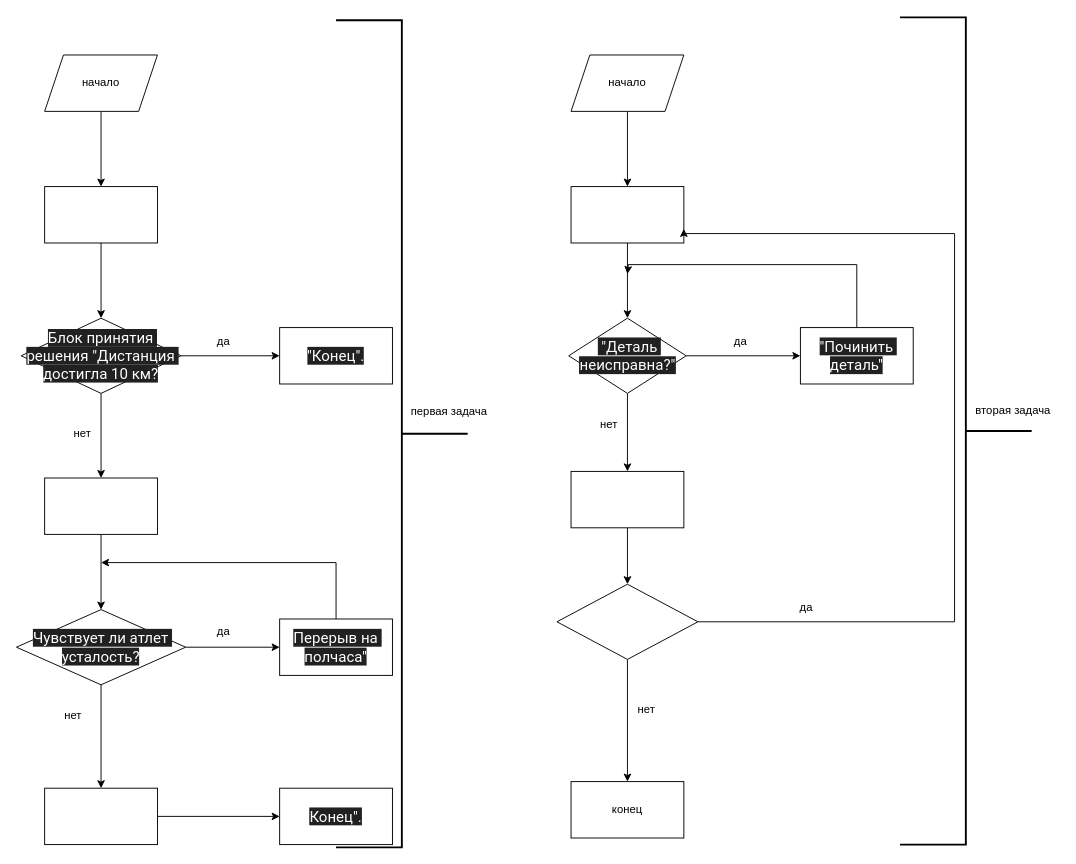
Some shapes in this 1076 by 864 pixel diagram are drawn without their labels. Here are the shapes that lost their labels. From the top down, the box of each, then its label:
(44, 186, 157, 243): Установить дистанцию = начальная дистанция
(570, 186, 684, 243): "Выбрать деталь для проверки".
(44, 477, 157, 534): "Увеличить дистанцию на 1 км"
(570, 470, 684, 528): "Следующая деталь".
(556, 583, 698, 659): "Есть еще детали?"
(44, 787, 157, 845): Увеличение дистанции
